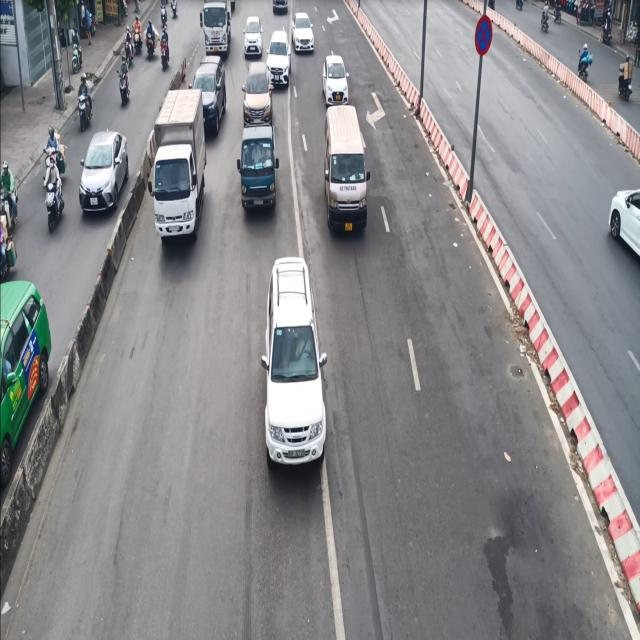car: (260, 247, 330, 491), (318, 103, 374, 240), (79, 120, 132, 232), (243, 64, 276, 125), (268, 24, 296, 92), (320, 48, 350, 109), (293, 8, 317, 65), (242, 12, 263, 64)
motor: (42, 153, 65, 234), (76, 74, 92, 134)
truck: (148, 86, 210, 255)
